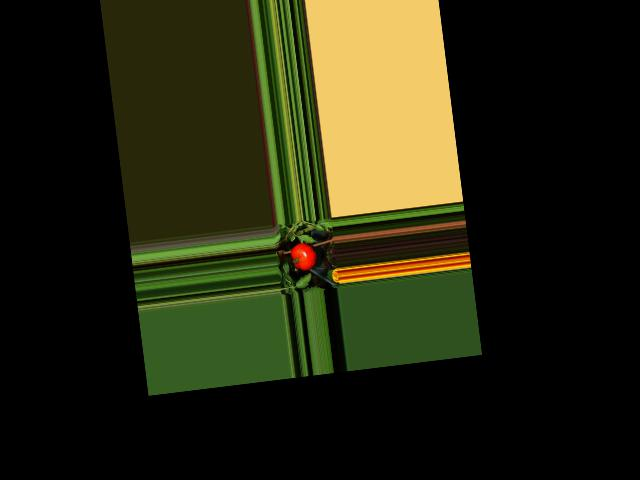tomato: (289, 240, 318, 272)
